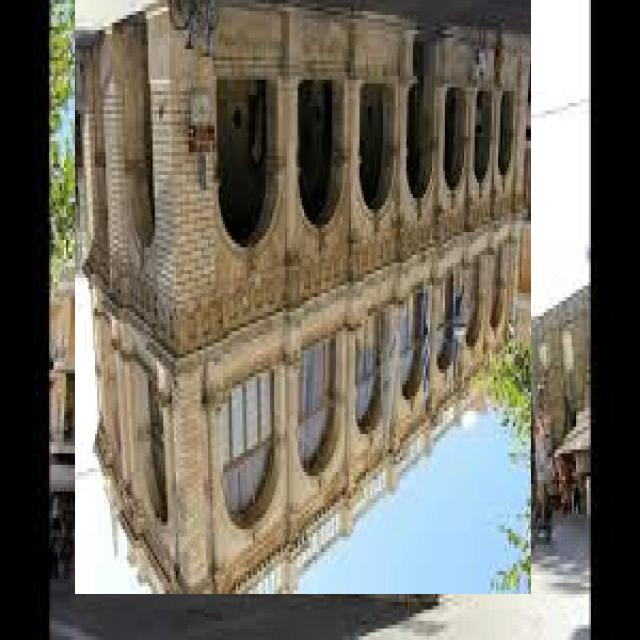Loggia: (77, 1, 533, 595)
